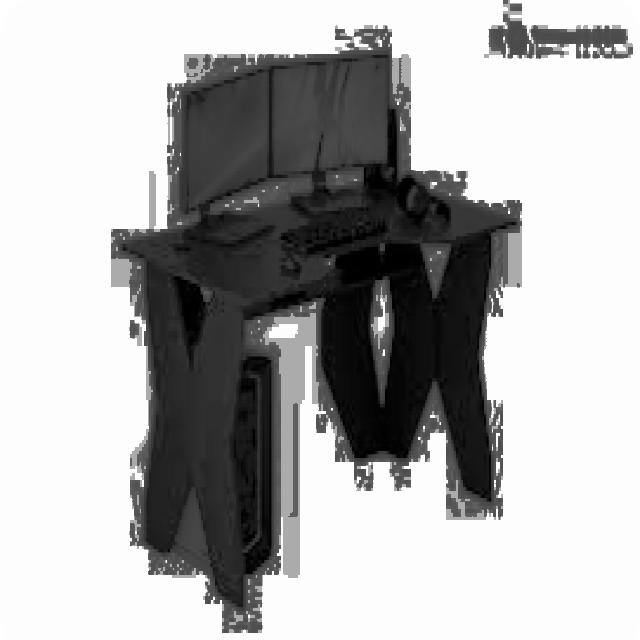table: (118, 171, 517, 607)
